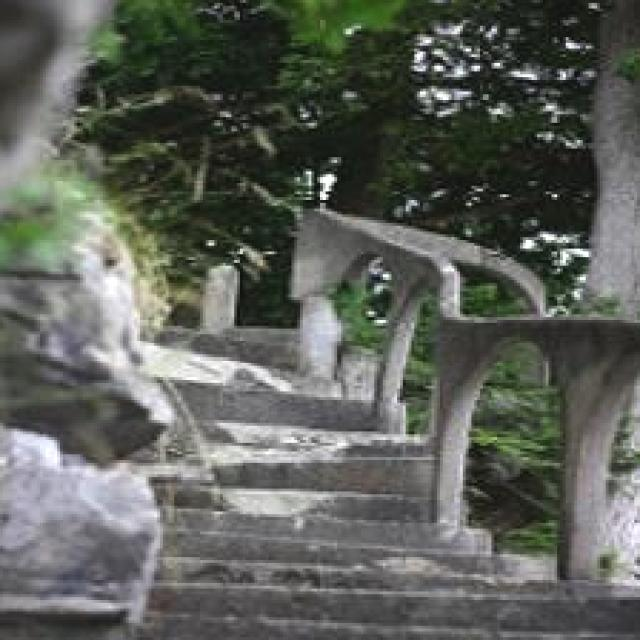upstair: (138, 361, 535, 618)
